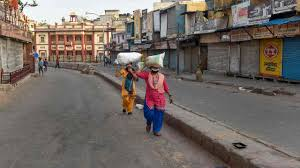mask: (149, 62, 160, 74), (124, 60, 133, 70)
